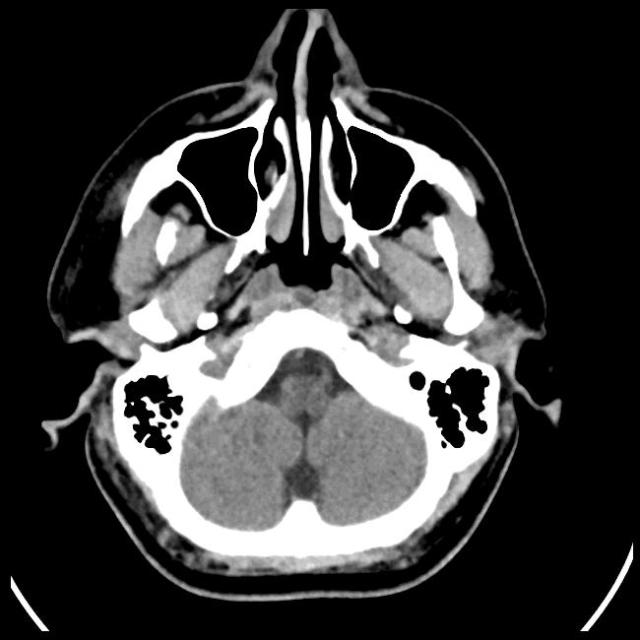lesion: (41, 8, 560, 600)
